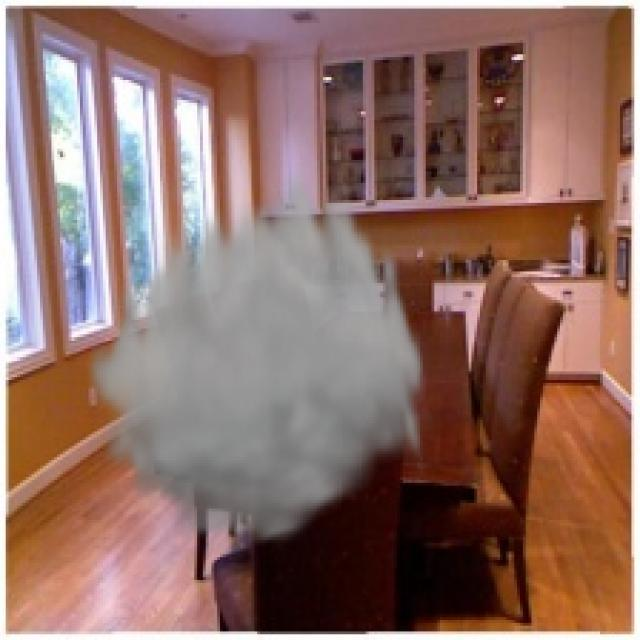Smoke: (82, 157, 428, 552)
